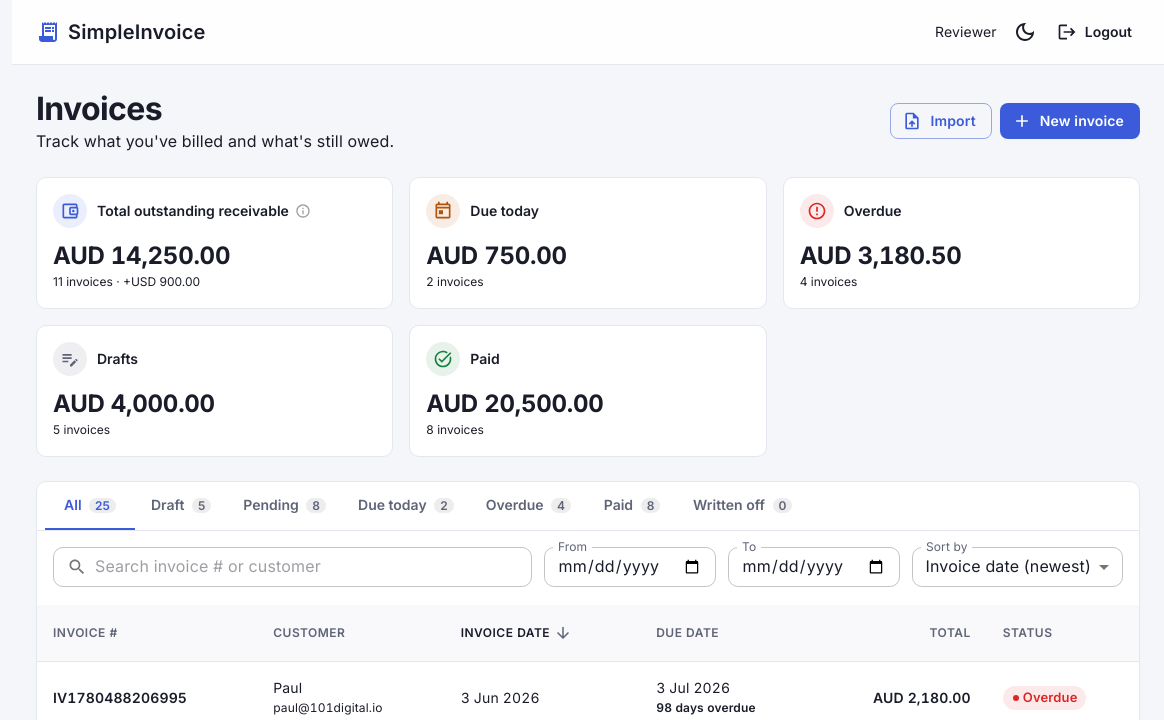
Scenario: Invoice list › filters by status and resets to page 1
Step 1. Click the tab "Paid 8" → (632, 506), box [587, 482, 677, 530]
(page scrolled)
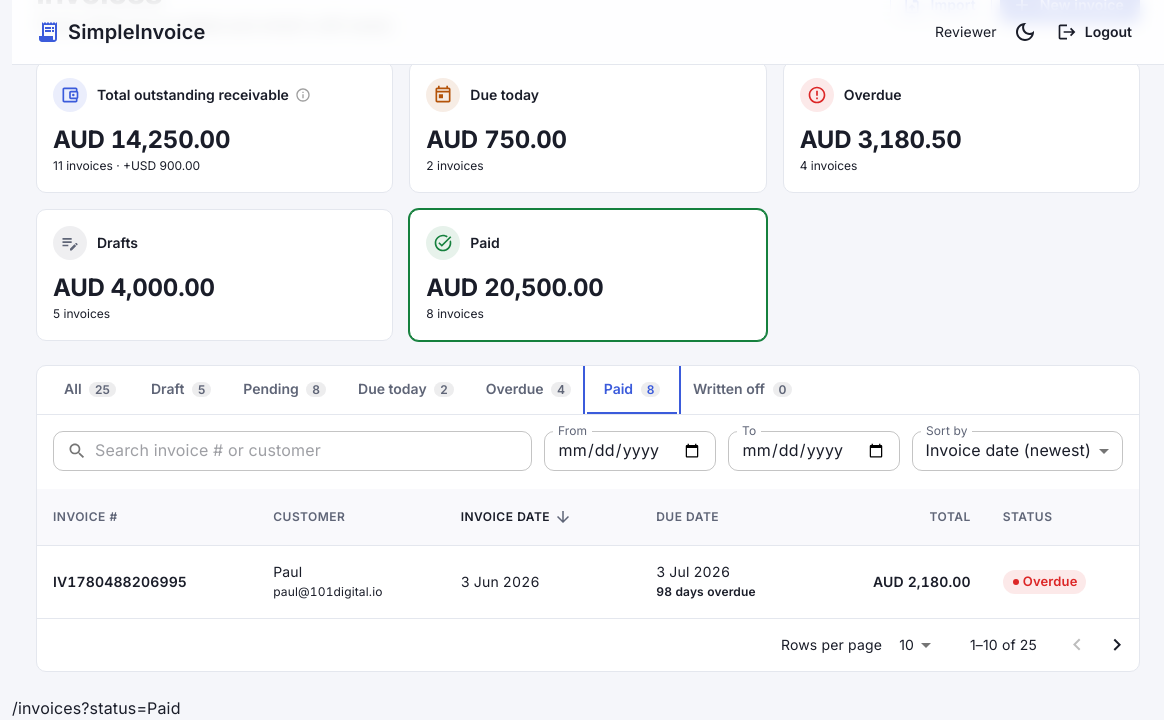
Expected: the text "Paid" is shown, [470, 232, 500, 252]
Result: the text with test id "location" reads "/invoices?status=Paid" at [12, 698, 181, 718]
